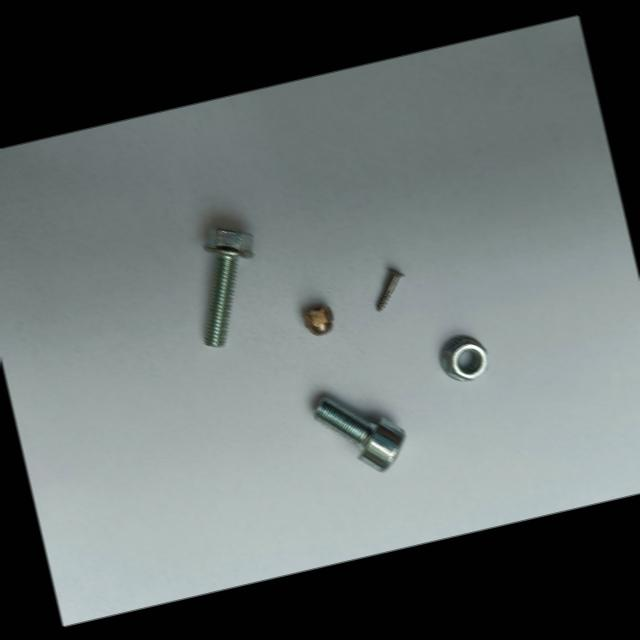bolt: (312, 395, 405, 471), (202, 227, 253, 346), (375, 267, 404, 311)
nuts: (438, 334, 486, 380), (301, 303, 333, 334)
